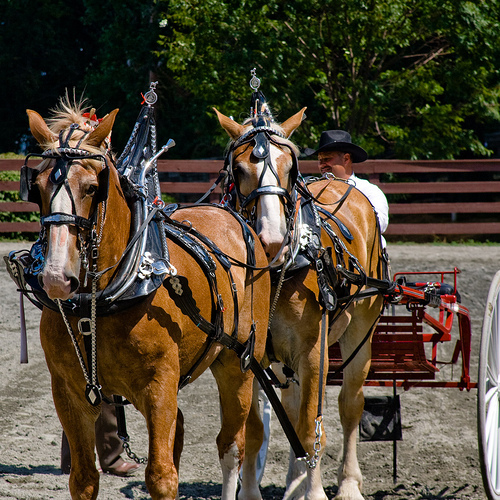horse: (10, 87, 276, 500), (202, 100, 390, 500)
